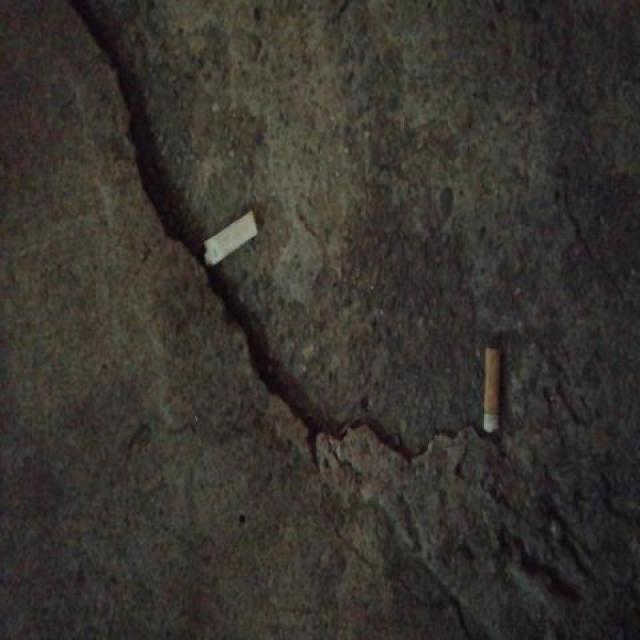non-organic waste: (202, 205, 262, 270), (481, 343, 506, 436)
